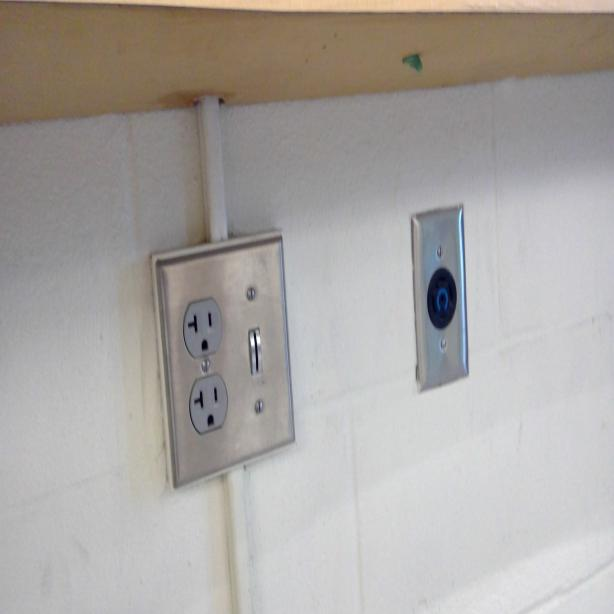typeb: (181, 298, 222, 360), (190, 375, 228, 428)
